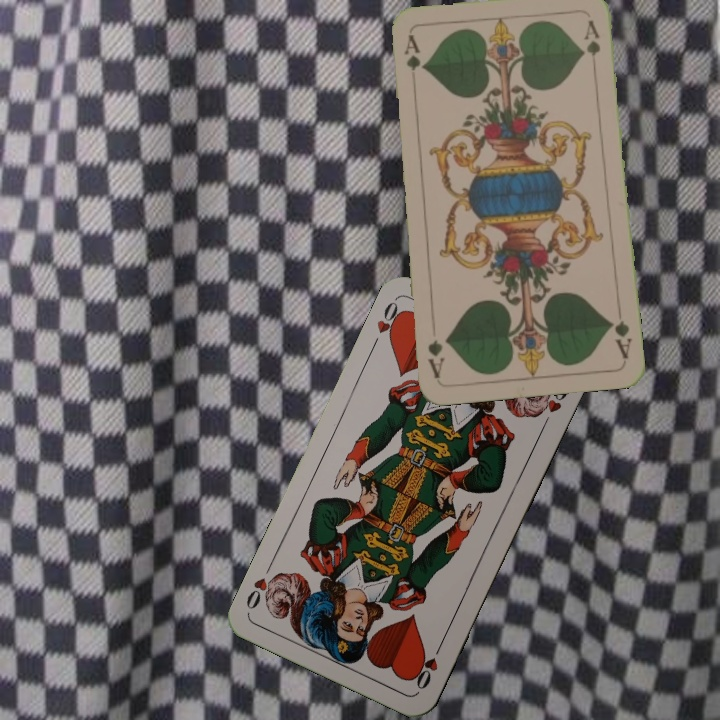GA: (605, 303, 635, 361), (400, 31, 422, 91)
HO: (367, 295, 408, 351), (409, 638, 446, 693)
